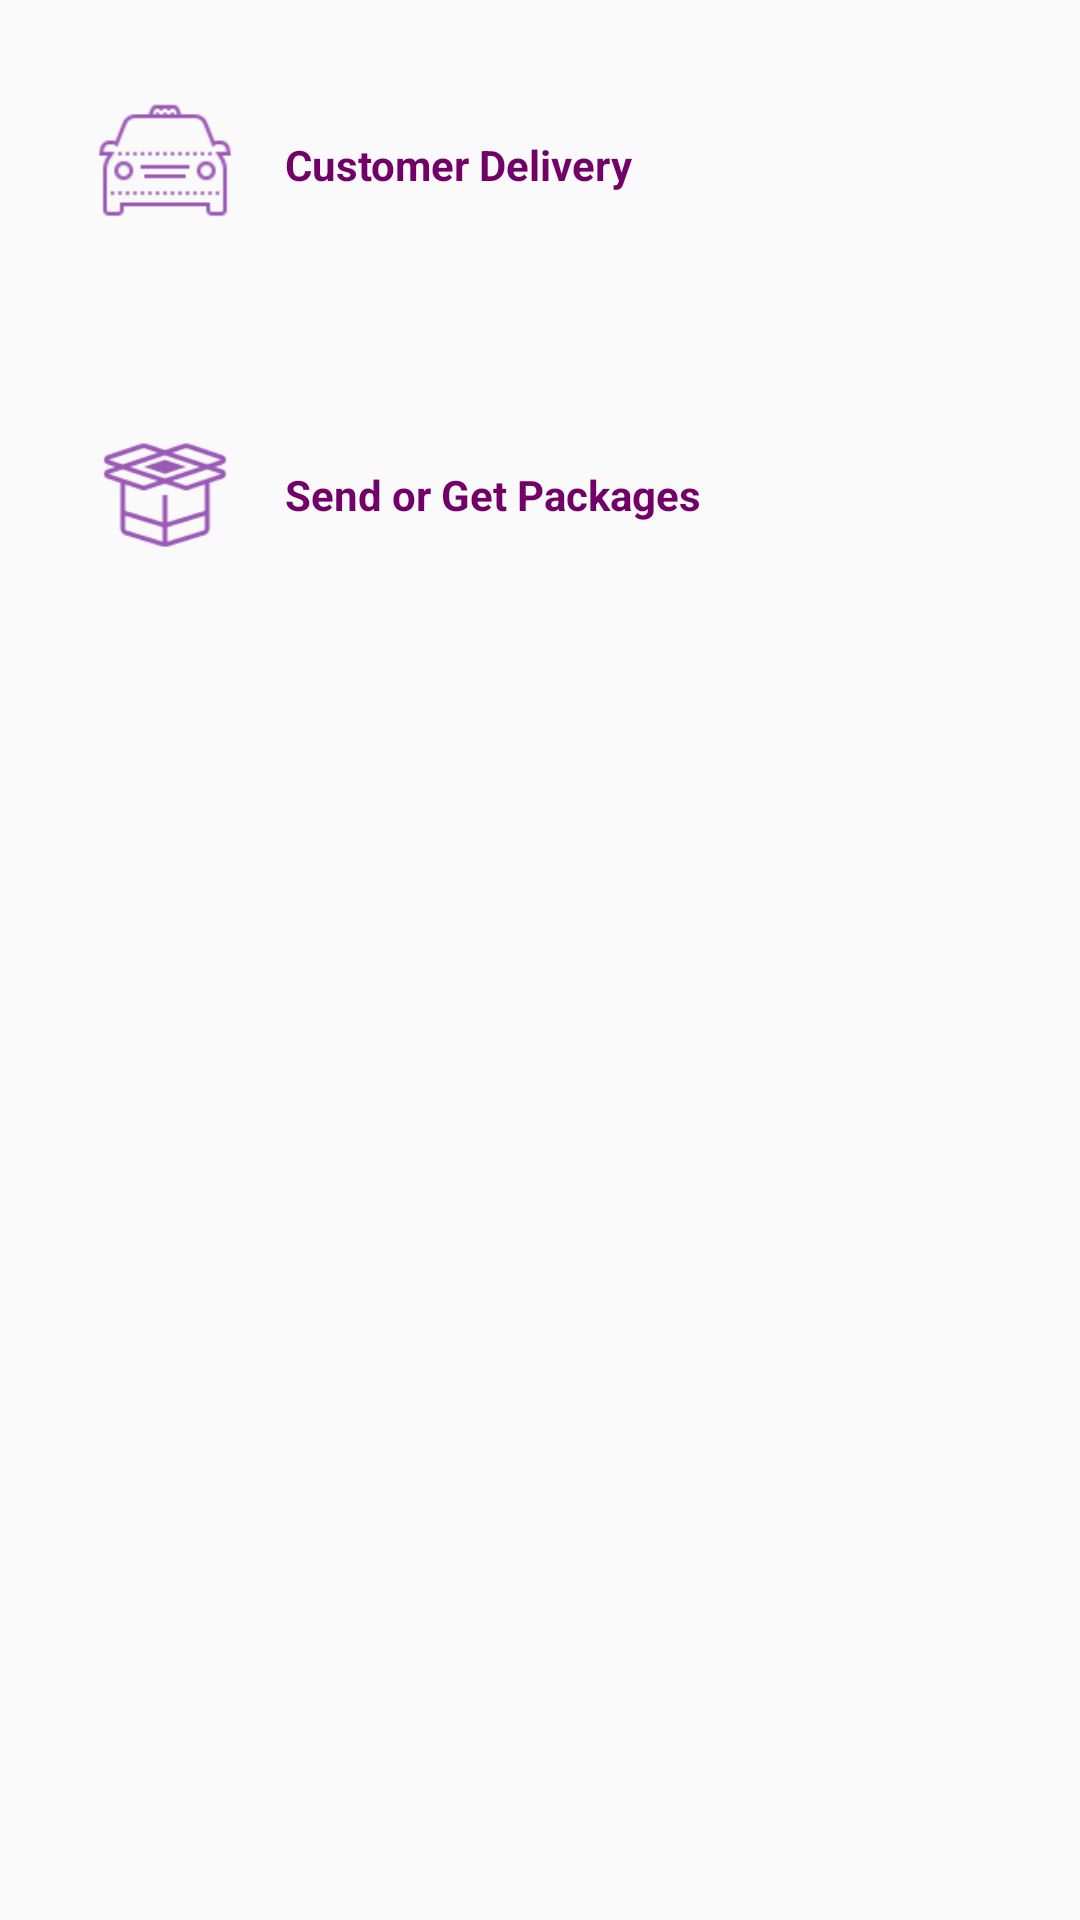

Where icons sit on this 1080px x 1920px app screen, as (x1, y1, x2, y2):
delivery: (104, 443, 226, 547)
taxi: (99, 104, 231, 216)
